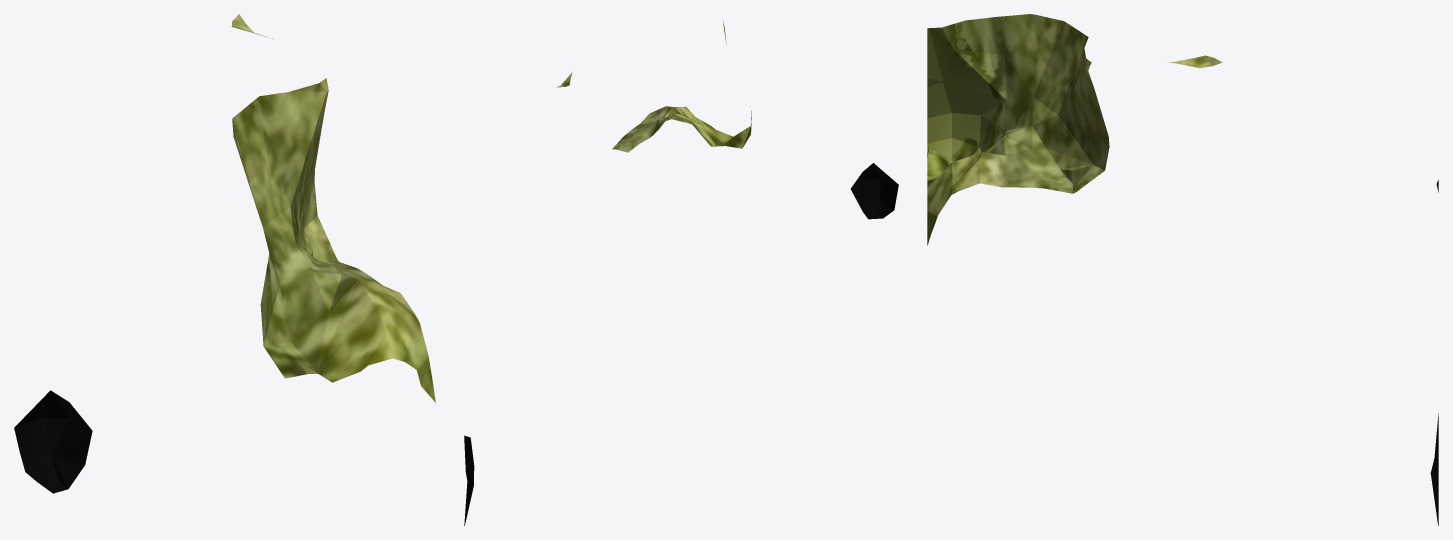
The picture shows the model from 3 angles, left to right: view 1: azimuth 30°, elevation 25°; view 2: azimuth 150°, elevation 25°; view 3: azimuth 270°, elevation 25°; orthographic projection. The views are drawn at different scales.
Size of the model in its own units: 1.95 by 2.95 by 2.95.
Materials: 1 (1 with a texture image).
